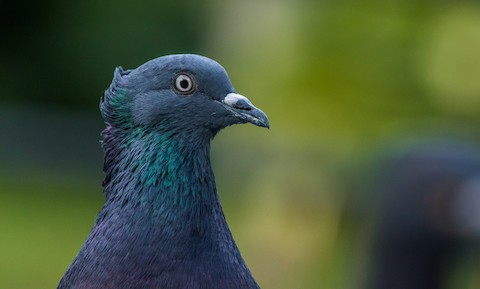pigeon: (53, 53, 275, 281)
